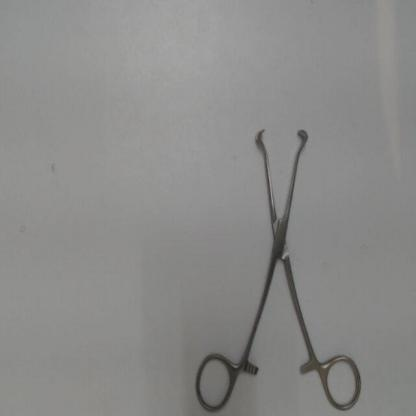Babcock Tissue Forceps: (190, 110, 372, 414)
